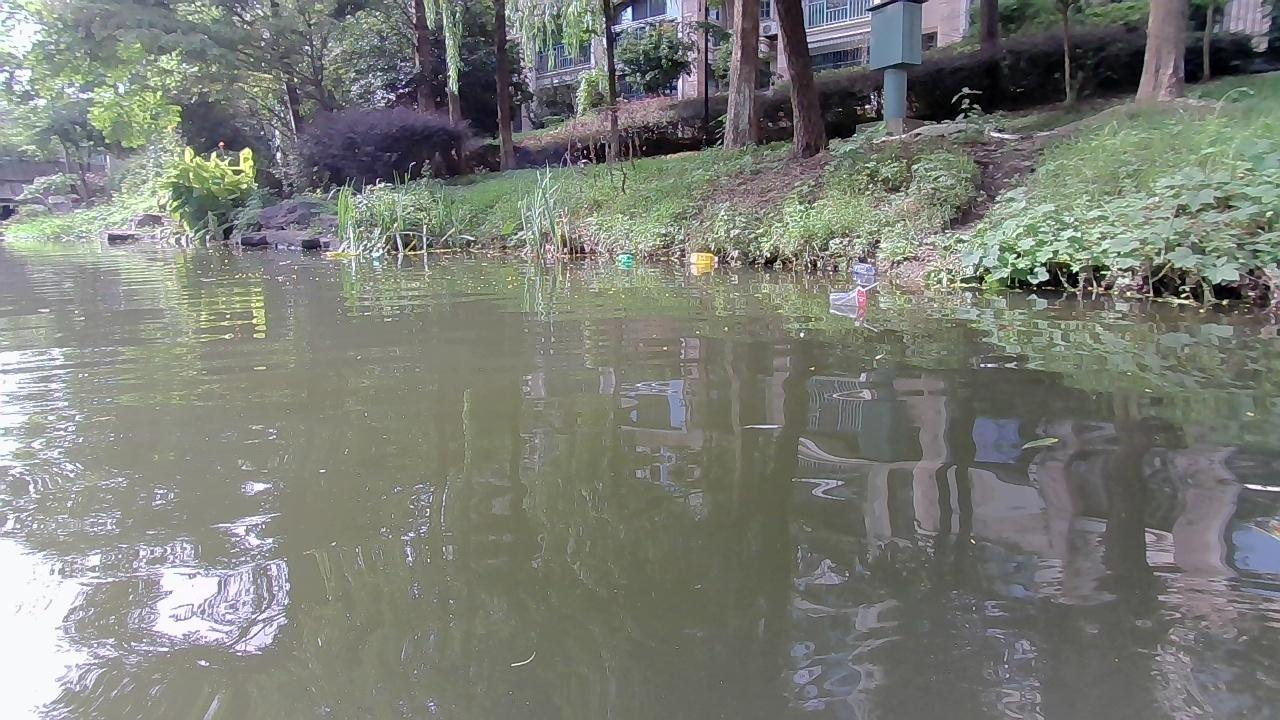bottle: (826, 291, 866, 310), (686, 252, 720, 268), (613, 250, 635, 265), (848, 265, 871, 278)
